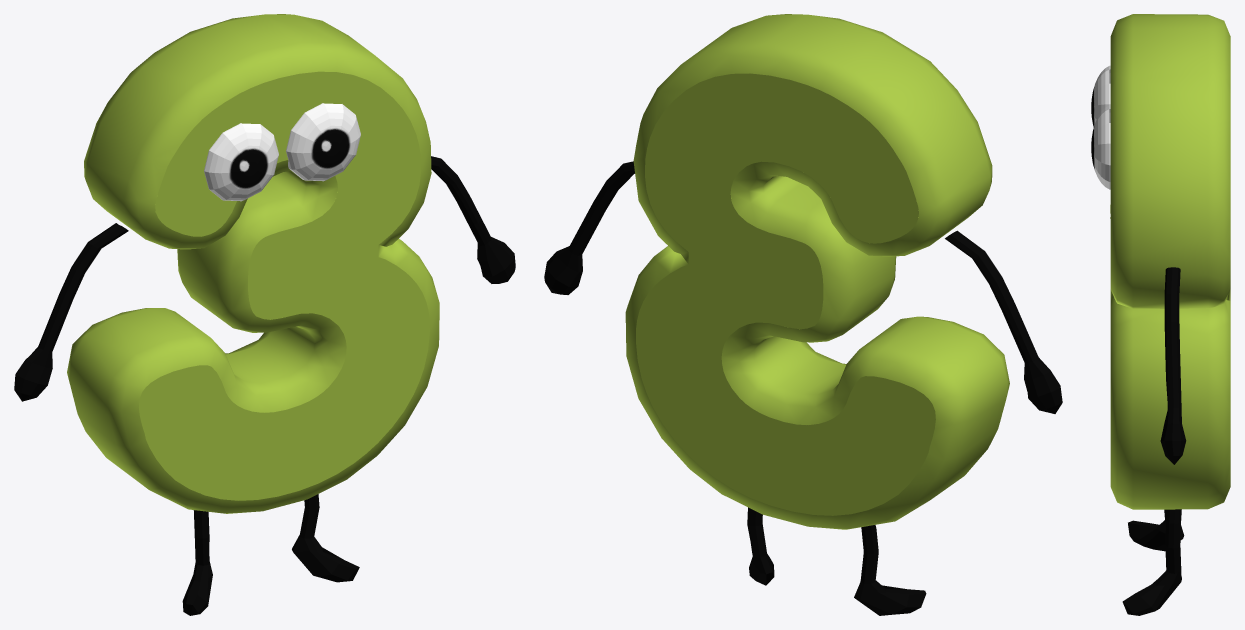
File: numbers3.fbx
3 views of the same model, side by side, from view 1: azimuth 30°, elevation 25°; view 2: azimuth 150°, elevation 25°; view 3: azimuth 270°, elevation 25° (orthographic). The views are drawn at different scales.
Parts seen in each view (by area): view 1: 3; view 2: 3; view 3: 3.
Part boxes in pixels (box(x1,y1,x2,y2)): 3: box(14, 14, 515, 615); 3: box(544, 14, 1062, 615); 3: box(1091, 14, 1230, 615).
Size of the model in its own units: 76.12 by 80.15 by 18.58.
Materials: 4 (1 with a texture image).
